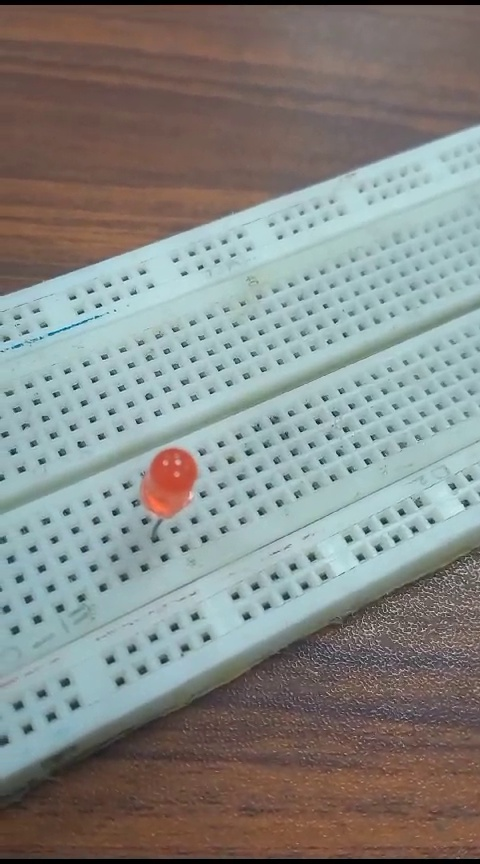LED: (128, 443, 212, 545)
